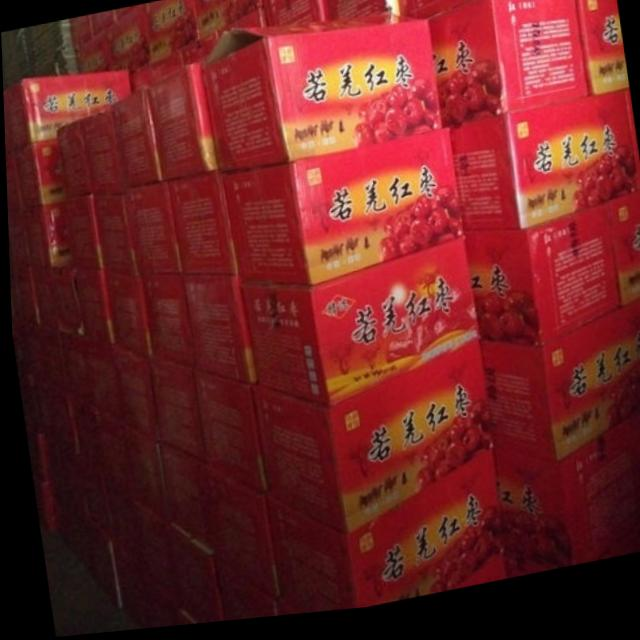box: (248, 347, 490, 539), (238, 245, 476, 411), (219, 136, 463, 291), (266, 458, 498, 619), (203, 19, 440, 176), (474, 307, 640, 473), (447, 102, 640, 242), (489, 422, 640, 581), (461, 212, 618, 356), (427, 0, 588, 136), (3, 70, 132, 156), (205, 470, 278, 603), (191, 373, 264, 496), (148, 67, 218, 183), (181, 276, 254, 387), (165, 172, 236, 279), (148, 360, 204, 466), (577, 0, 628, 107), (164, 526, 218, 627), (158, 446, 208, 554), (123, 183, 180, 276), (128, 499, 175, 610), (140, 278, 193, 371), (111, 89, 159, 189), (209, 560, 274, 625), (604, 201, 640, 318), (123, 426, 166, 523), (104, 272, 150, 359), (114, 349, 157, 442), (92, 196, 138, 279), (81, 111, 125, 195), (11, 141, 64, 208), (143, 0, 200, 61), (21, 202, 72, 267), (72, 271, 115, 345), (63, 195, 102, 270), (55, 118, 91, 199), (92, 409, 128, 490), (105, 12, 152, 73), (84, 529, 117, 610), (194, 0, 264, 38), (86, 341, 119, 421), (57, 333, 91, 406), (64, 390, 97, 463), (39, 381, 75, 444), (328, 0, 411, 26), (53, 266, 83, 337), (263, 0, 330, 31), (36, 327, 65, 389), (75, 32, 114, 75), (32, 267, 59, 329), (13, 265, 38, 324), (6, 209, 30, 265), (5, 153, 21, 211), (68, 17, 93, 52), (89, 11, 117, 38)
